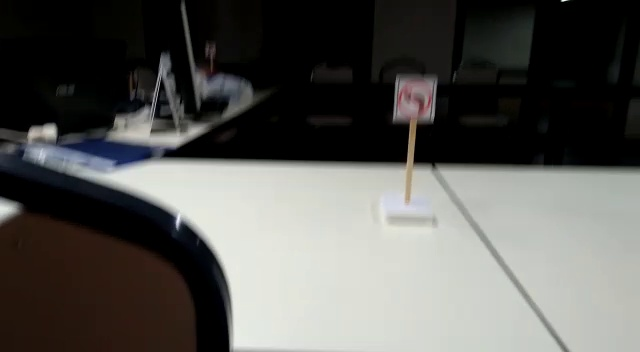sola_donulmez: (400, 80, 433, 115)
